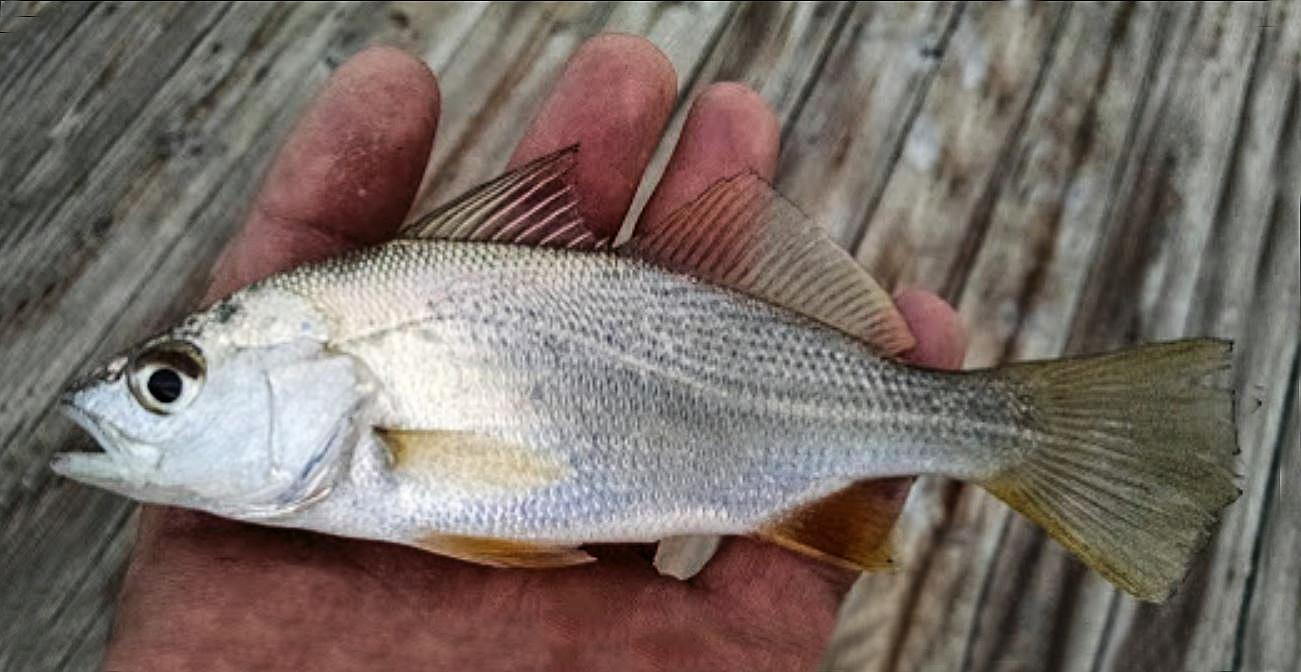Silver Perch: (49, 135, 1251, 608)
